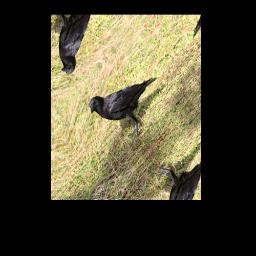Crow: (86, 46, 174, 156)
